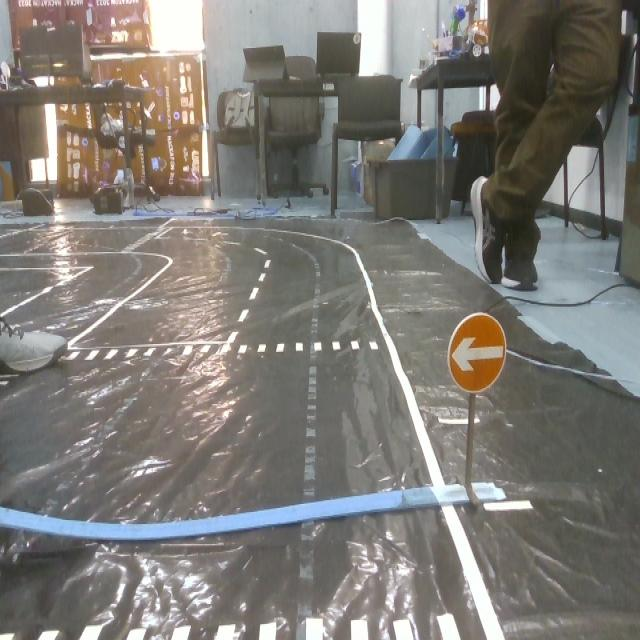forward: (443, 309, 514, 396)
